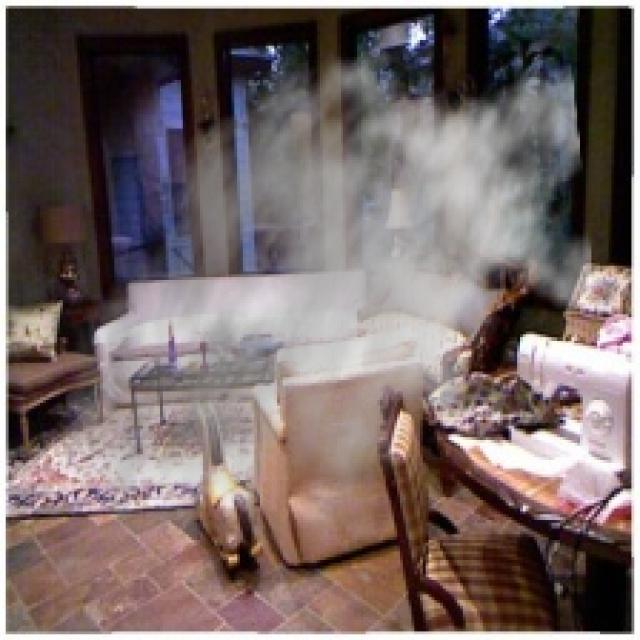Smoke: (54, 26, 597, 583)
